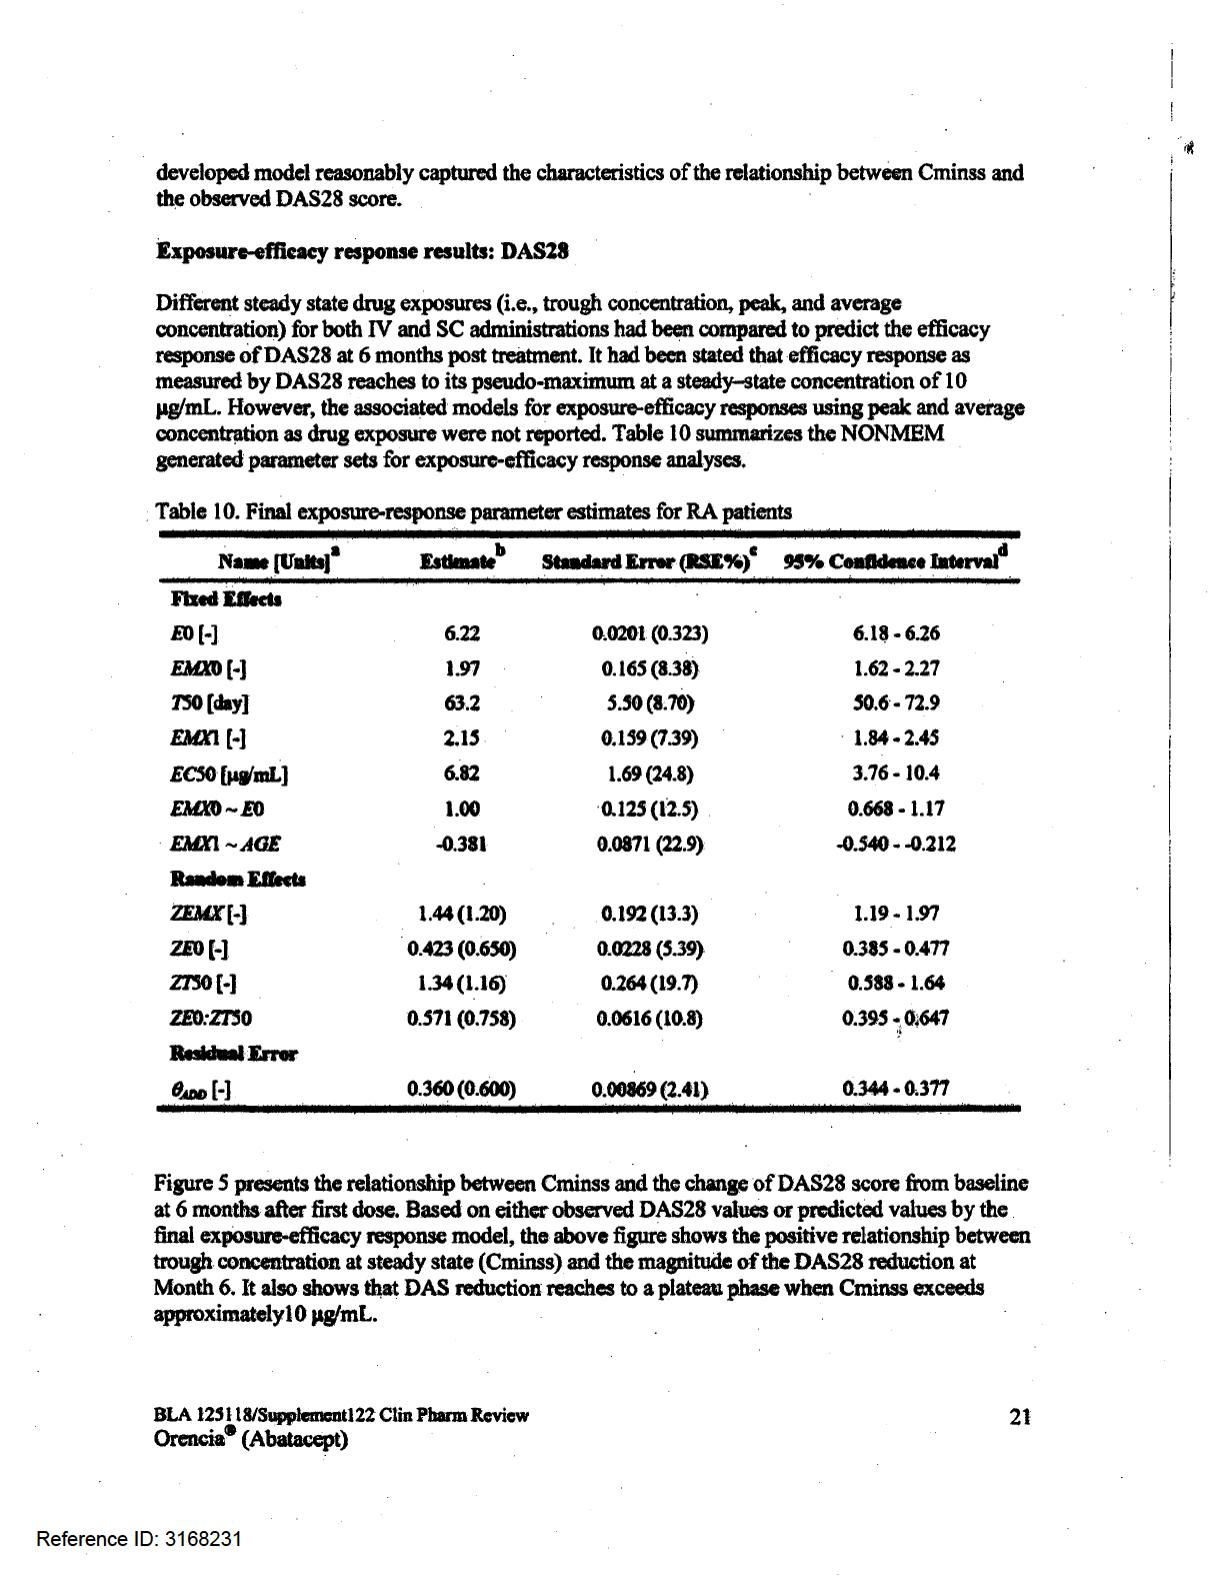partial_lined: (155, 529, 1022, 1115)
